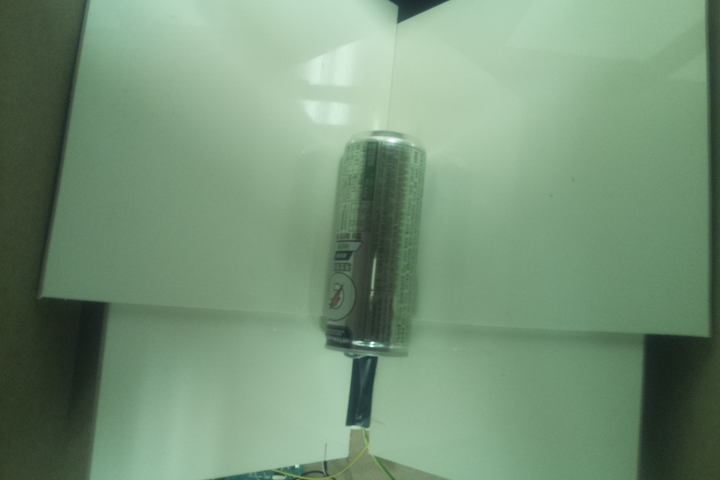can: (320, 128, 427, 364)
